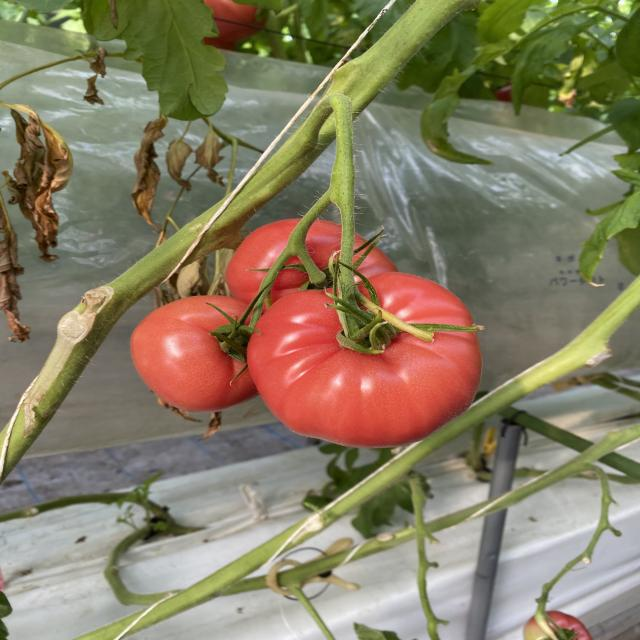n-riped: (246, 272, 482, 448), (226, 218, 399, 317), (130, 295, 260, 412)
